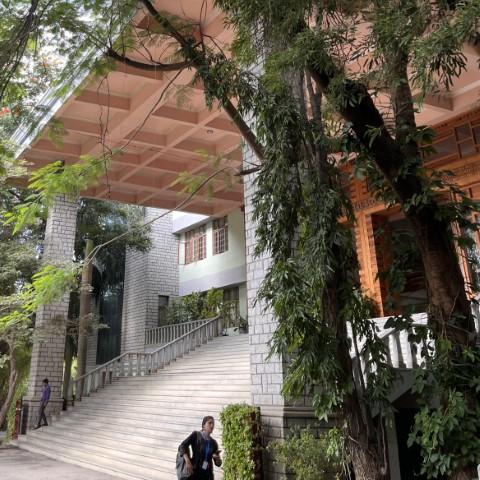Central Block: (6, 28, 287, 480)
